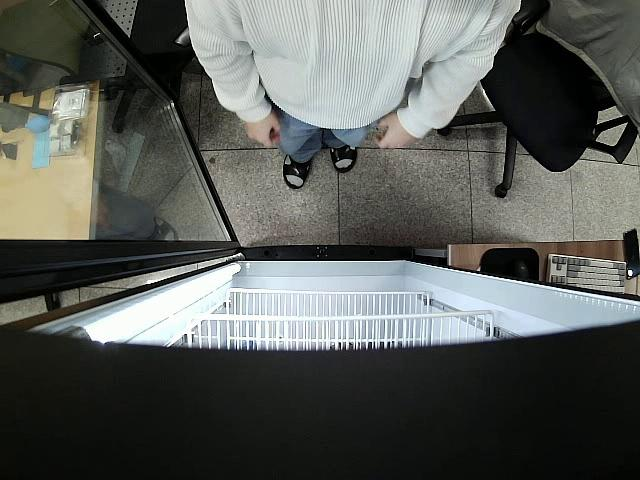00_hand: (373, 116, 417, 151), (243, 115, 283, 147)
